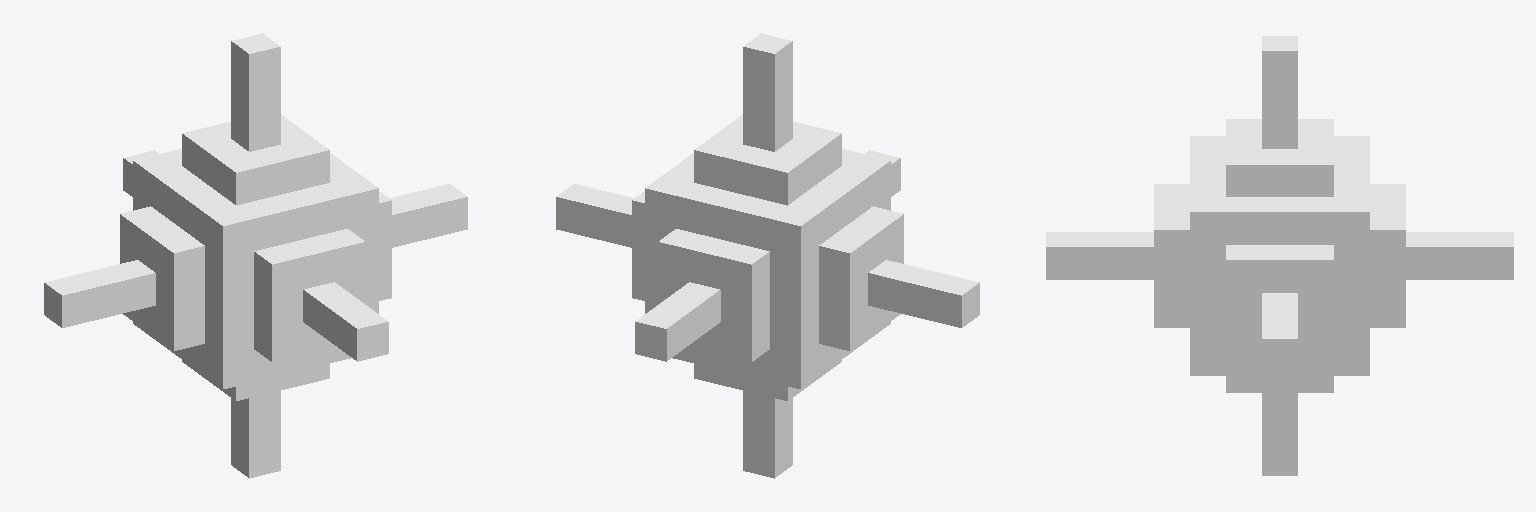
The model's file is synapse_enemy2.obj.
3 renders of one model, left to right at view 1: azimuth 30°, elevation 25°; view 2: azimuth 150°, elevation 25°; view 3: azimuth 270°, elevation 25°, orthographic.
Visible parts, largest first — view 1: object 1; view 2: object 1; view 3: object 1.
Part boxes in pixels (bbox=[...]): object 1: bbox=[44, 33, 467, 478]; object 1: bbox=[556, 33, 979, 478]; object 1: bbox=[1046, 36, 1513, 475].
Bounding box in the file's own units: 1.3 × 1.3 × 1.3.